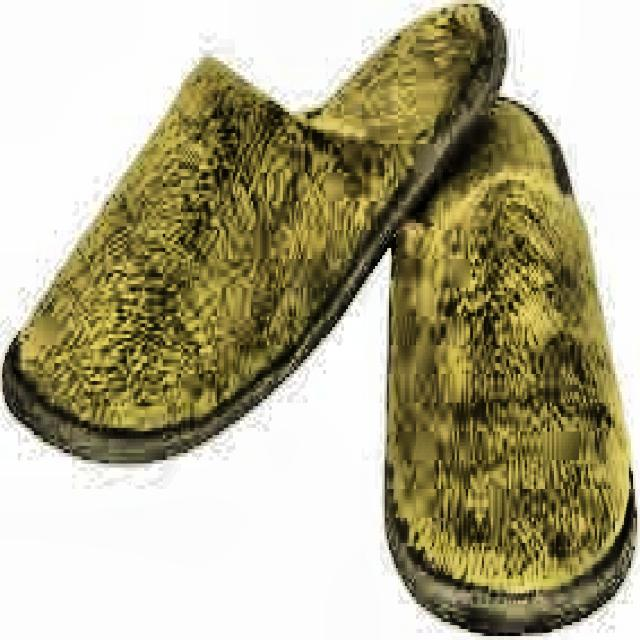shoes: (1, 0, 638, 640)
